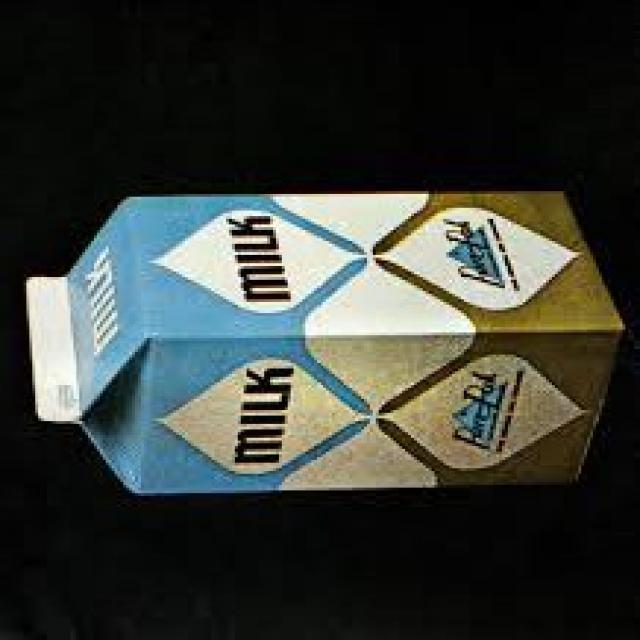non_white_jug: (20, 188, 622, 498)
